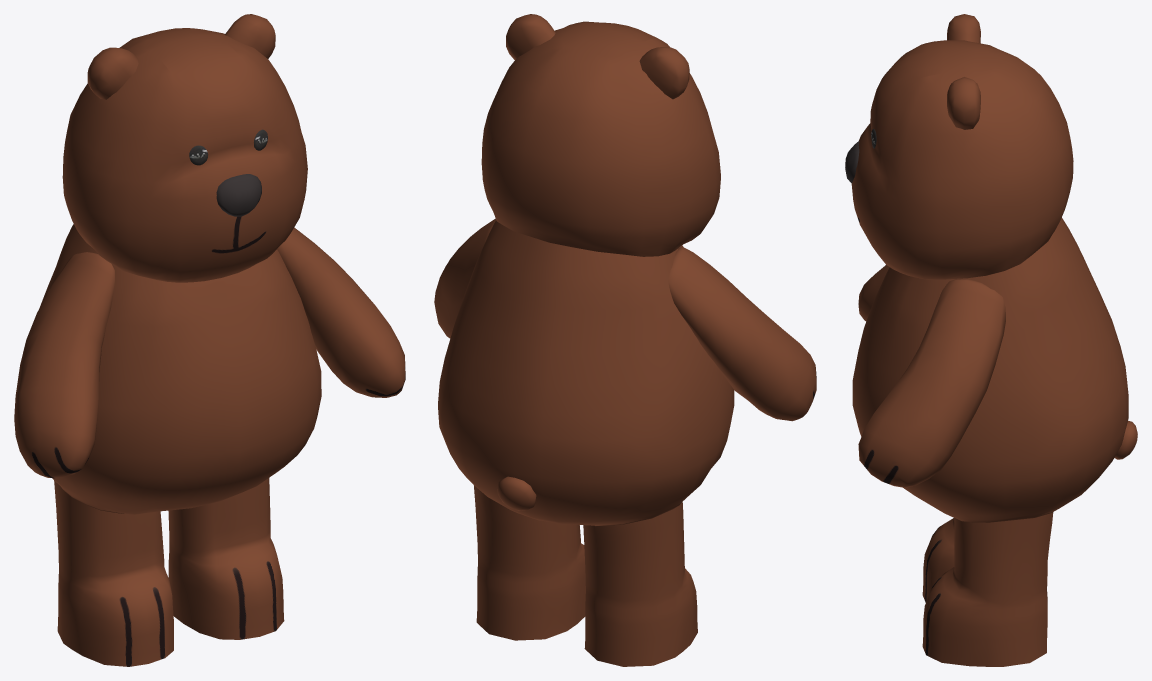
Rendered from sample002_0.glb.
The picture shows the model from 3 angles, left to right: view 1: azimuth 30°, elevation 25°; view 2: azimuth 150°, elevation 25°; view 3: azimuth 270°, elevation 25°; orthographic projection. The views are drawn at different scales.
Visible parts, largest first — view 1: Body, Arm; view 2: Body, Arm; view 3: Body, Arm.
Boxes of the visible parts, <box> form: Body: <box>39,14,321,666</box>; Arm: <box>14,227,405,478</box>; Body: <box>438,14,734,666</box>; Arm: <box>434,218,816,421</box>; Body: <box>845,14,1137,666</box>; Arm: <box>858,265,1005,487</box>.
Bounding box in the file's own units: 18.2 × 27.92 × 12.92.
Materials: 1 (1 with a texture image).
